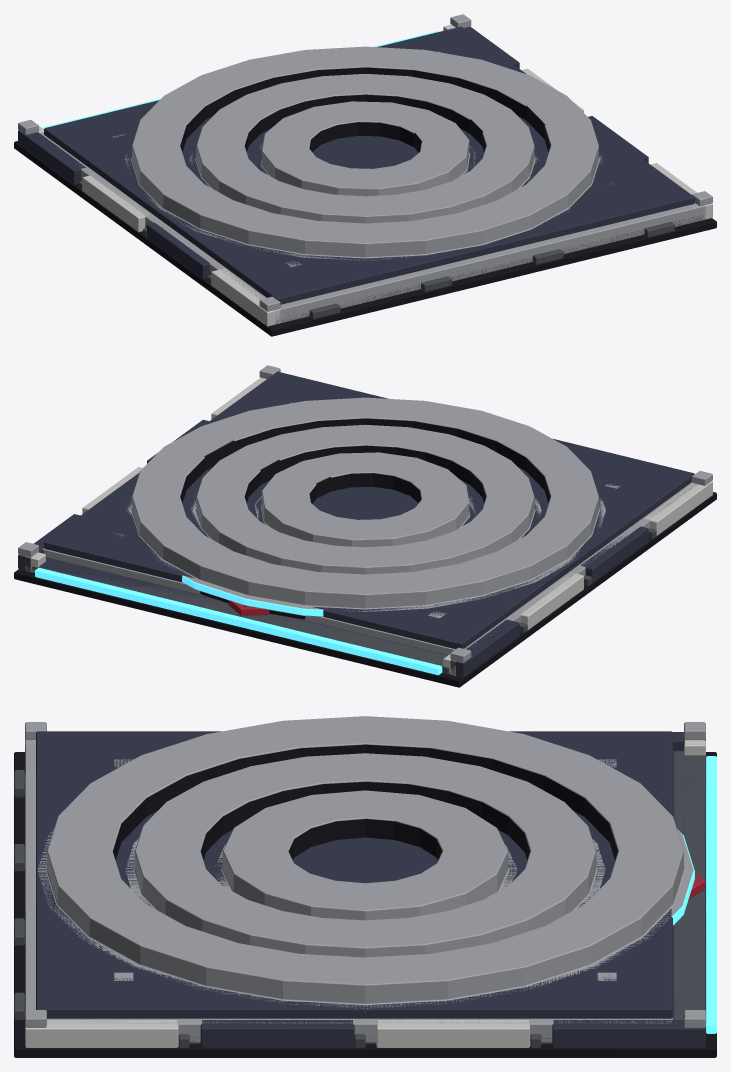
The model's file is mount-tiles.glb.
The picture shows the model from 3 angles, top to bottom: view 1: azimuth 30°, elevation 25°; view 2: azimuth 150°, elevation 25°; view 3: azimuth 270°, elevation 25°; orthographic projection. The views are drawn at different scales.
Parts seen in each view (by area): view 1: mount.fixed.xl, mount.turret.xl, mount.turret.lg, mount.turret.md, mount.fixed.sm, mount.fixed.lg; view 2: mount.fixed.xl, mount.turret.xl, mount.turret.lg, mount.turret.md, mount.fixed.md, mount.fixed.lg, mount.fixed.sm; view 3: mount.fixed.xl, mount.turret.xl, mount.turret.lg, mount.turret.md, mount.fixed.md, mount.fixed.lg, mount.fixed.sm.
Boxes of the visible parts, x1,y1,x2,y2 form: mount.fixed.xl: [14, 14, 716, 336]; mount.turret.xl: [38, 24, 705, 324]; mount.turret.lg: [189, 73, 537, 223]; mount.turret.md: [260, 101, 475, 196]; mount.fixed.sm: [316, 138, 404, 168]; mount.fixed.lg: [112, 51, 612, 266]; mount.fixed.xl: [14, 365, 716, 687]; mount.turret.xl: [25, 397, 605, 675]; mount.turret.lg: [190, 424, 541, 574]; mount.turret.md: [255, 452, 474, 547]; mount.fixed.md: [247, 481, 482, 525]; mount.fixed.lg: [115, 402, 619, 618]; mount.fixed.sm: [316, 488, 390, 519]; mount.fixed.xl: [14, 722, 716, 1057]; mount.turret.xl: [14, 716, 705, 1043]; mount.turret.lg: [125, 753, 605, 957]; mount.turret.md: [215, 790, 517, 920]; mount.fixed.md: [213, 830, 437, 886]; mount.fixed.lg: [114, 759, 616, 980]; mount.fixed.sm: [301, 842, 407, 882].
Bounding box in the file's own units: 4 × 0.375 × 4.
